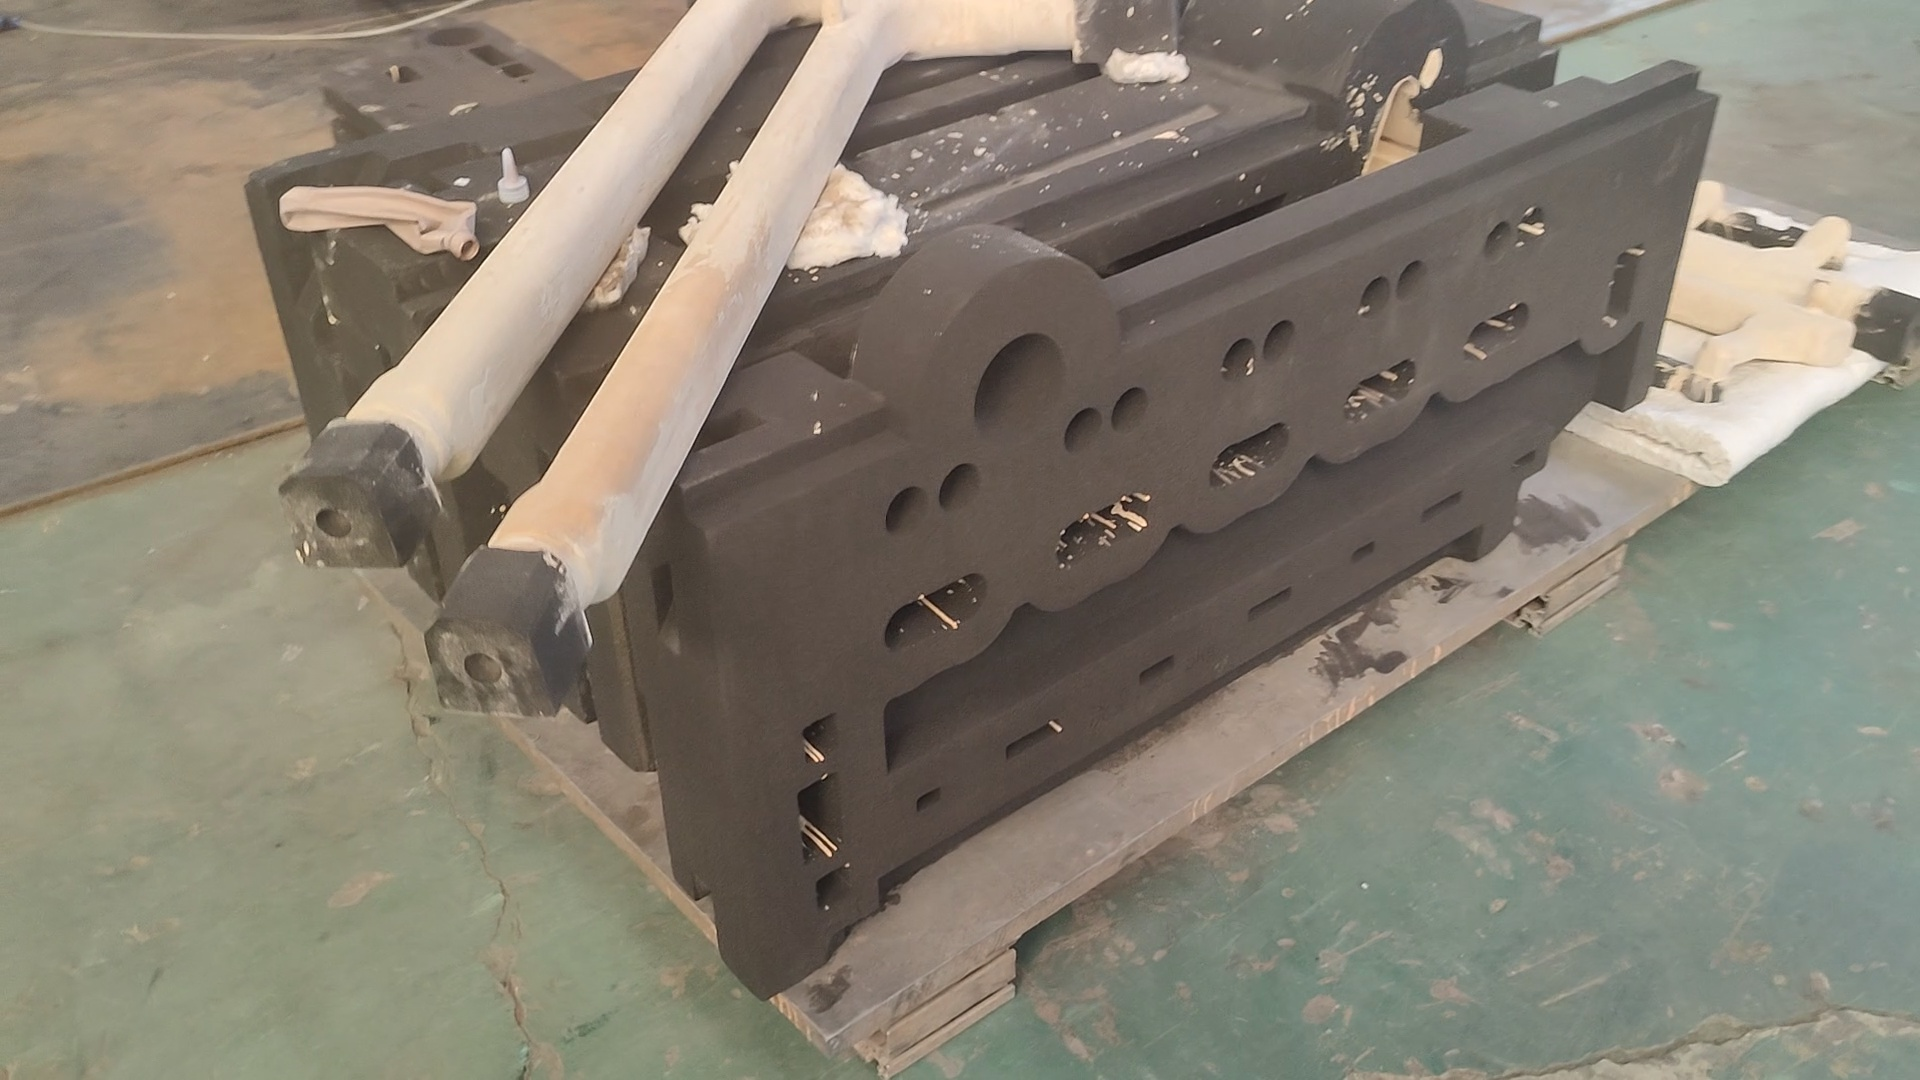pouring hole: (973, 331, 1067, 444), (425, 26, 487, 45)
